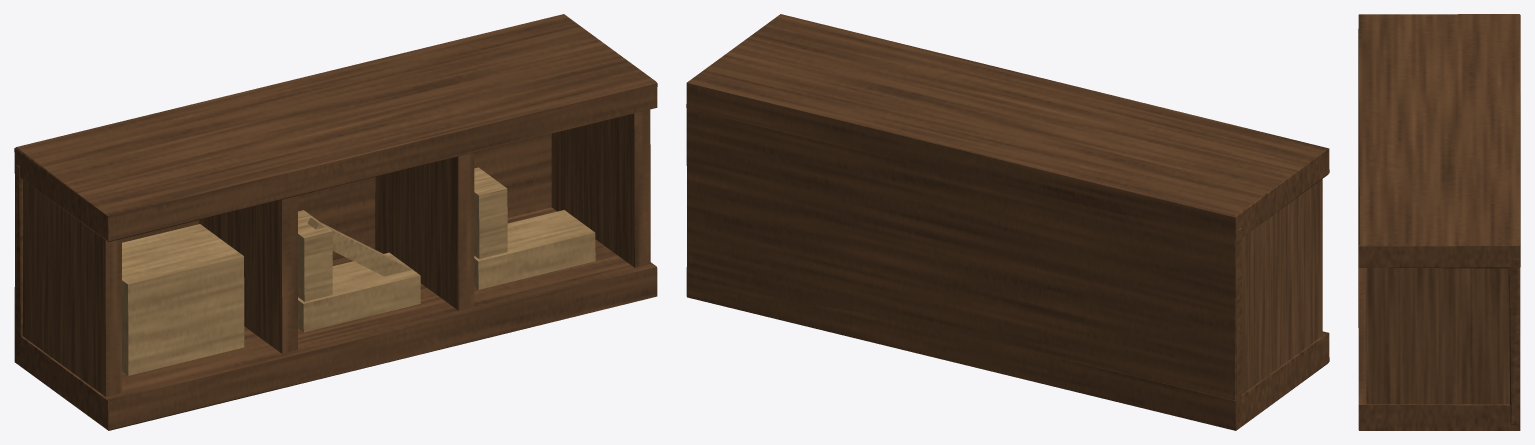
Rendered from WestAngleSamples_LOD2.fbx.
The picture shows the model from 3 angles, left to right: view 1: azimuth 30°, elevation 25°; view 2: azimuth 150°, elevation 25°; view 3: azimuth 270°, elevation 25°; orthographic projection. The views are drawn at different scales.
Visible parts, largest first — view 1: WestAngleSamples.001; view 2: WestAngleSamples.001; view 3: WestAngleSamples.001.
Part boxes in pixels (<box>): WestAngleSamples.001: <box>14,14,657,430</box>; WestAngleSamples.001: <box>686,14,1329,430</box>; WestAngleSamples.001: <box>1358,14,1520,430</box>.
Size of the model in its own units: 1.15 by 0.4315 by 0.3399.
Materials: 1 (1 with a texture image).
